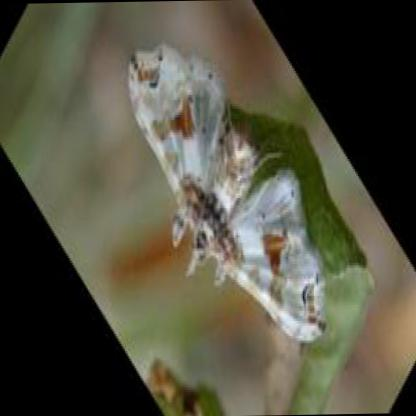leucinodes: (128, 46, 325, 343)
